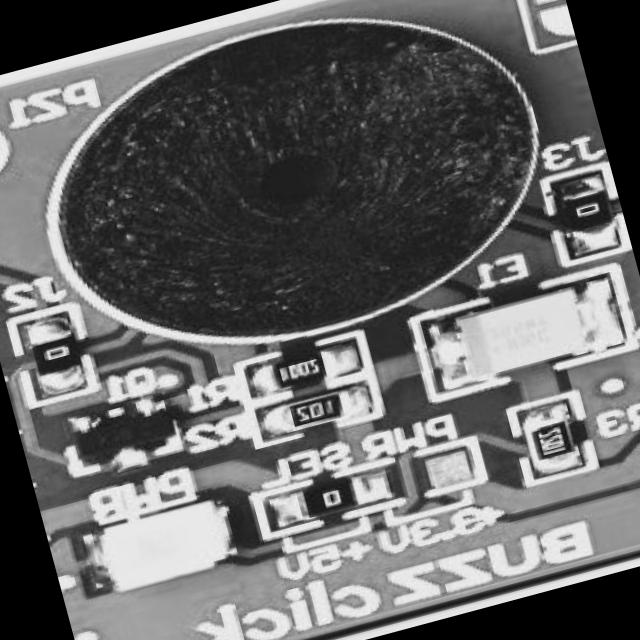LED: (436, 278, 622, 396), (91, 494, 244, 602)
resistor: (240, 337, 358, 397), (280, 462, 372, 528), (10, 317, 84, 399), (515, 392, 587, 472), (558, 175, 618, 258), (272, 387, 360, 438)
transistor: (58, 398, 180, 478)
